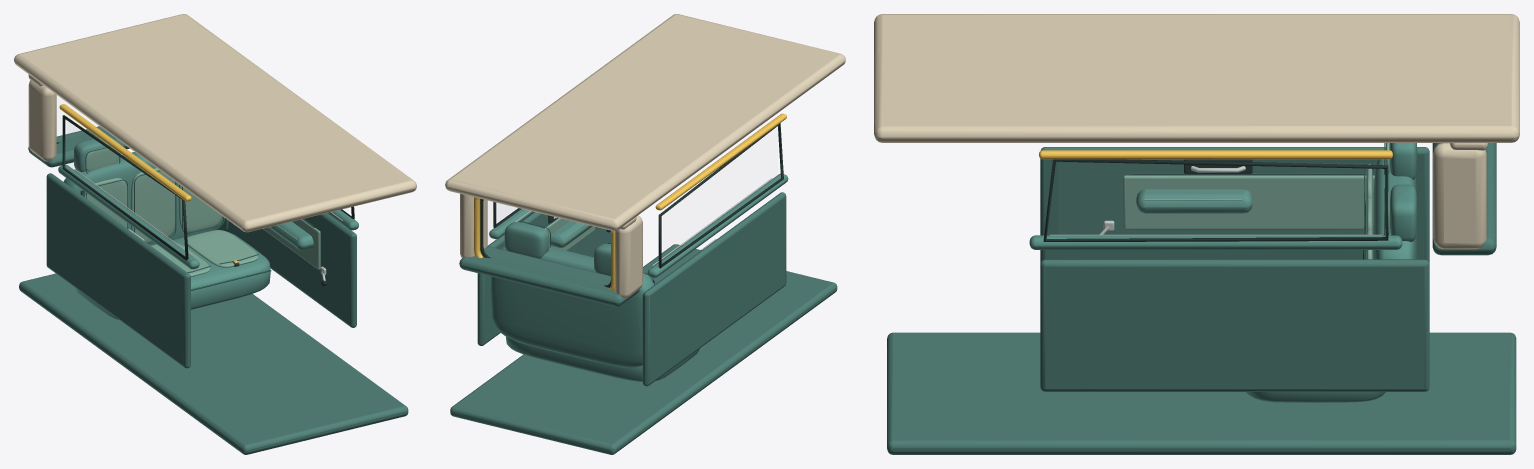
The model's file is TaxiRearCabin.glb.
The picture shows the model from 3 angles, left to right: view 1: azimuth 30°, elevation 25°; view 2: azimuth 150°, elevation 25°; view 3: azimuth 270°, elevation 25°; orthographic projection. The views are drawn at different scales.
Visible parts, largest first — view 1: CAB_GreenDoorVinyl, CAB_IvoryHeadliner, CAB_SageSeatInset, CAB_GreenFabric, CAB_WindowRubber, CAB_YellowPaint, CAB_DarkGreenWelt; view 2: CAB_IvoryHeadliner, CAB_GreenDoorVinyl, CAB_GreenFabric, CAB_YellowPaint, CAB_WindowRubber, CAB_SageSeatInset; view 3: CAB_GreenDoorVinyl, CAB_IvoryHeadliner, CAB_GreenFabric, CAB_SageSeatInset, CAB_WindowRubber, CAB_YellowPaint, CAB_SatinChrome, CAB_DarkGreenWelt.
Boxes of the visible parts, <box> form: CAB_GreenDoorVinyl: <box>19,126,408,454</box>; CAB_IvoryHeadliner: <box>14,14,416,232</box>; CAB_SageSeatInset: <box>84,147,320,276</box>; CAB_GreenFabric: <box>58,136,358,320</box>; CAB_WindowRubber: <box>56,115,354,286</box>; CAB_YellowPaint: <box>59,104,238,263</box>; CAB_DarkGreenWelt: <box>80,146,315,290</box>; CAB_IvoryHeadliner: <box>445,14,845,298</box>; CAB_GreenDoorVinyl: <box>450,192,837,454</box>; CAB_GreenFabric: <box>489,173,788,381</box>; CAB_YellowPaint: <box>474,113,786,290</box>; CAB_WindowRubber: <box>480,123,783,287</box>; CAB_SageSeatInset: <box>544,218,649,277</box>; CAB_GreenDoorVinyl: <box>887,143,1516,454</box>; CAB_IvoryHeadliner: <box>874,14,1519,249</box>; CAB_GreenFabric: <box>1029,143,1417,402</box>; CAB_SageSeatInset: <box>1123,143,1389,259</box>; CAB_WindowRubber: <box>1043,159,1388,241</box>; CAB_YellowPaint: <box>1039,150,1392,159</box>; CAB_SatinChrome: <box>1050,166,1381,235</box>; CAB_DarkGreenWelt: <box>1133,143,1385,259</box>.
Size of the model in its own units: 1.18 by 1.54 by 2.72.
